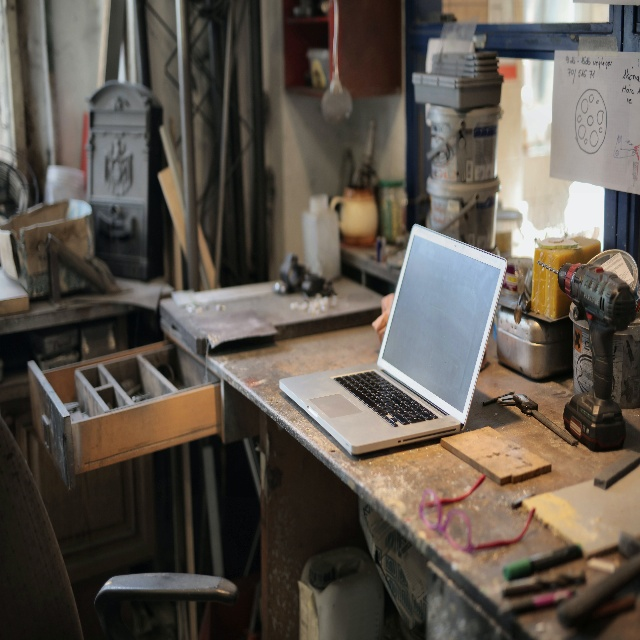Gafas: (418, 473, 536, 551)
